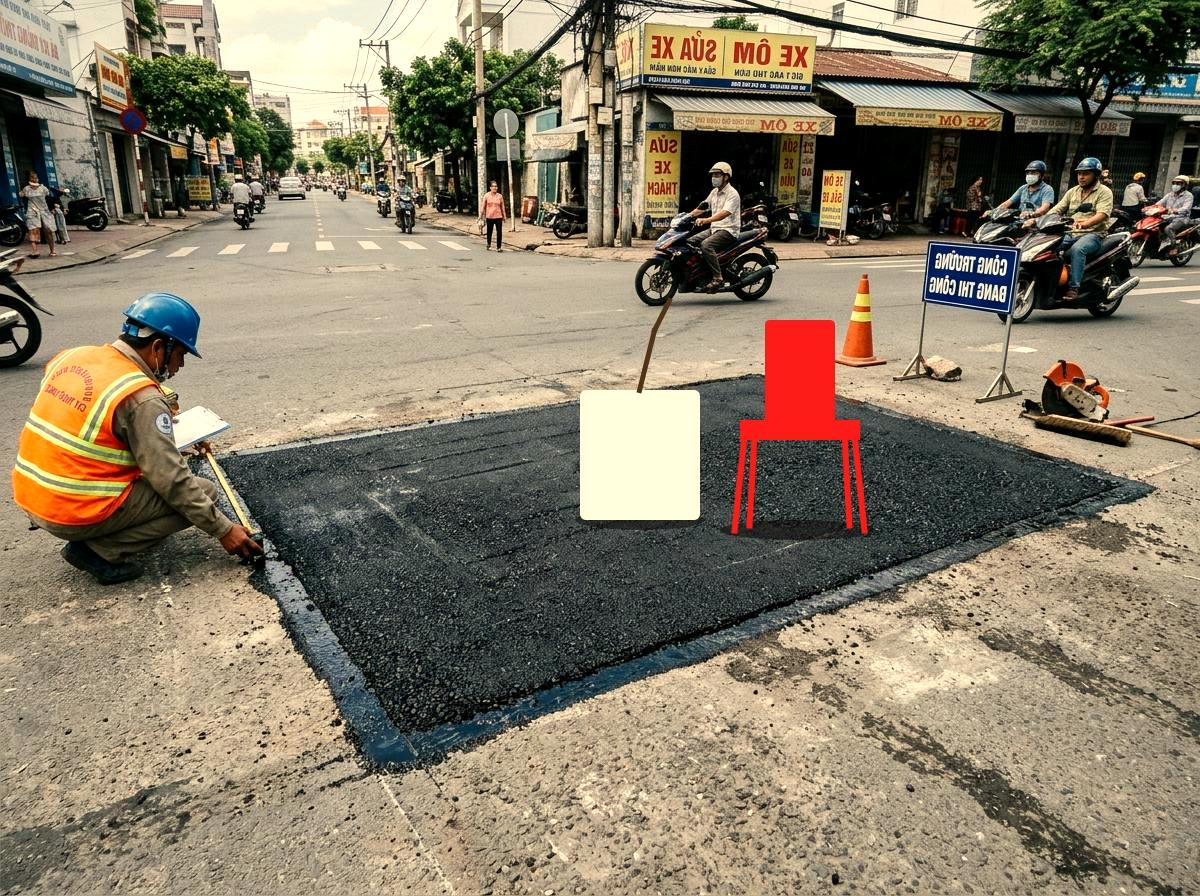ROAD_OBSTACLE: (725, 315, 875, 535), (575, 365, 705, 525)
